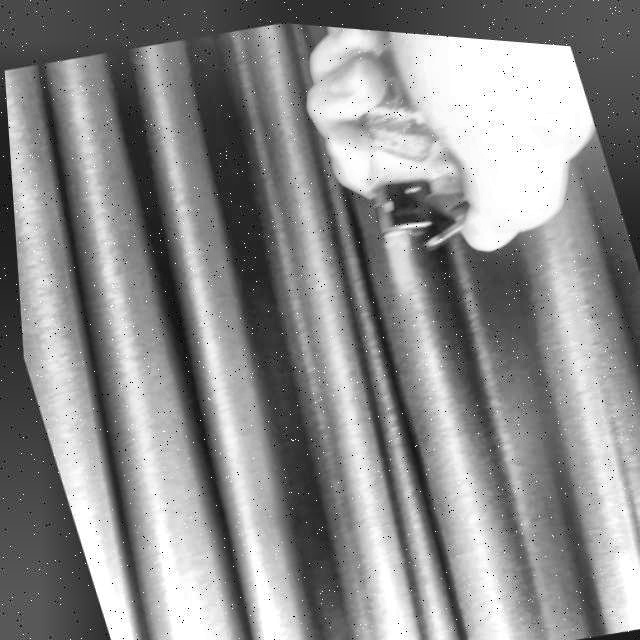Fire: (373, 222, 425, 303)
